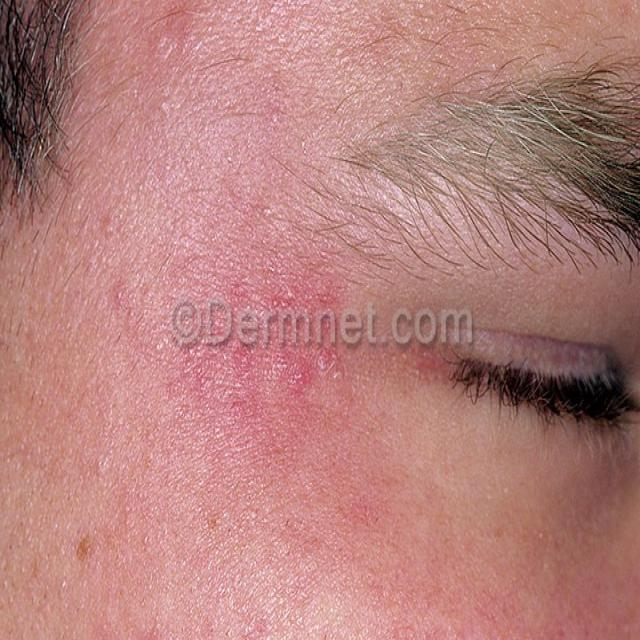Rosacea: (147, 233, 345, 424)
